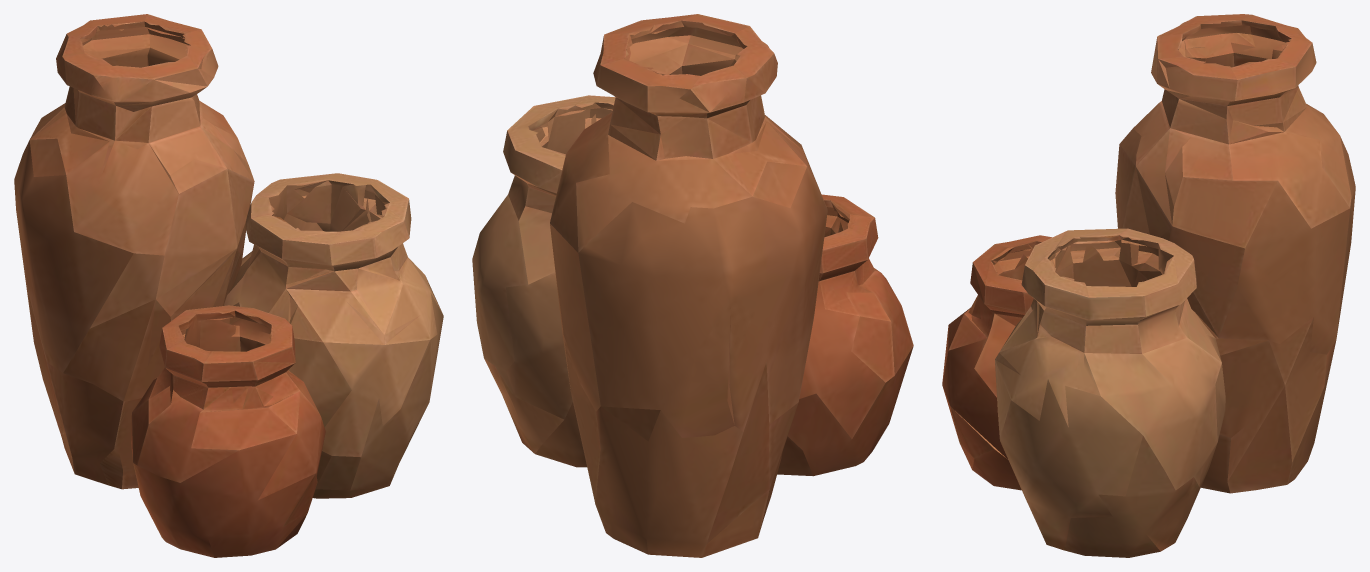
Rendered from jars.glb.
The picture shows the model from 3 angles, left to right: view 1: azimuth 30°, elevation 25°; view 2: azimuth 150°, elevation 25°; view 3: azimuth 270°, elevation 25°; orthographic projection. The views are drawn at different scales.
Size of the model in its own units: 1.62 by 1.9 by 1.69.
Materials: 1 (1 with a texture image).
